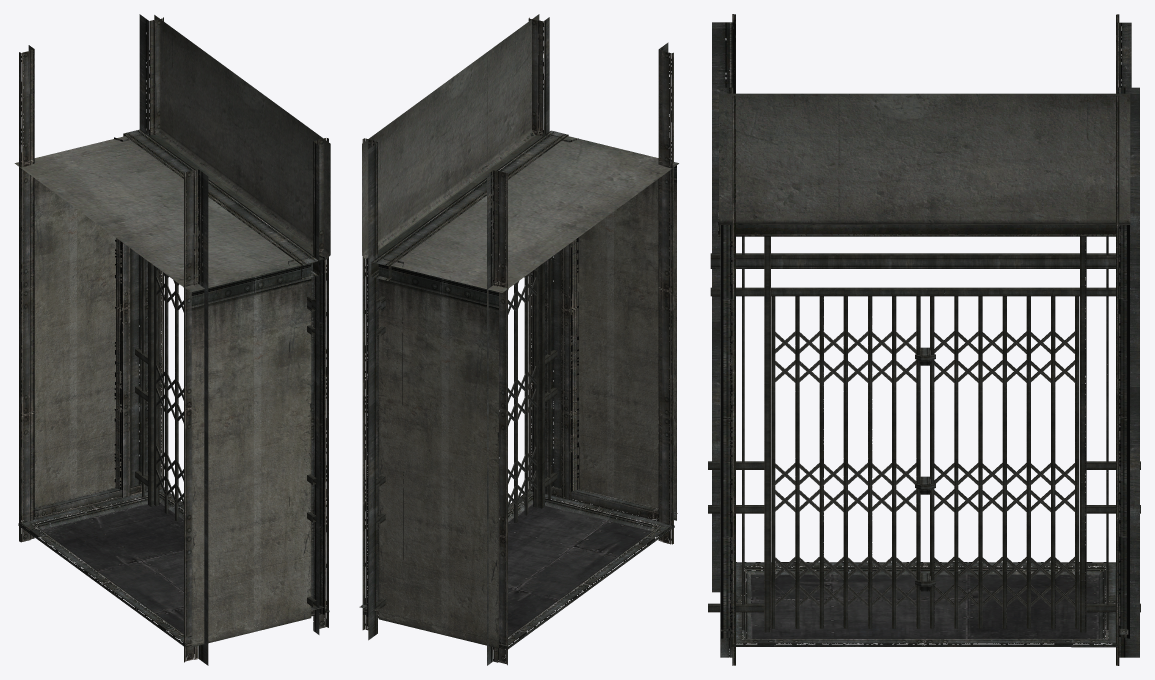
The model's file is tesla_modules1_door_alcove_01.dae.
The picture shows the model from 3 angles, left to right: view 1: azimuth 30°, elevation 25°; view 2: azimuth 150°, elevation 25°; view 3: azimuth 270°, elevation 25°; orthographic projection. The views are drawn at different scales.
Visible parts, largest first — view 1: polySurface191, polySurface190, polySurface140, ceiling_square_04; view 2: polySurface191, polySurface190, polySurface140, ceiling_square_04; view 3: polySurface190, polySurface140, ceiling_square_04.
Boxes of the visible parts, bbox=[...] form: polySurface191: bbox=[21, 170, 311, 647]; polySurface190: bbox=[18, 14, 329, 665]; polySurface140: bbox=[14, 15, 330, 292]; ceiling_square_04: bbox=[41, 502, 186, 633]; polySurface191: bbox=[378, 165, 676, 648]; polySurface190: bbox=[359, 17, 677, 665]; polySurface140: bbox=[362, 14, 678, 292]; ceiling_square_04: bbox=[499, 503, 651, 638]; polySurface190: bbox=[708, 14, 1140, 665]; polySurface140: bbox=[719, 93, 1130, 224]; ceiling_square_04: bbox=[751, 574, 1099, 638].
Size of the model in its own units: 2.01 by 6.5 by 4.47.
